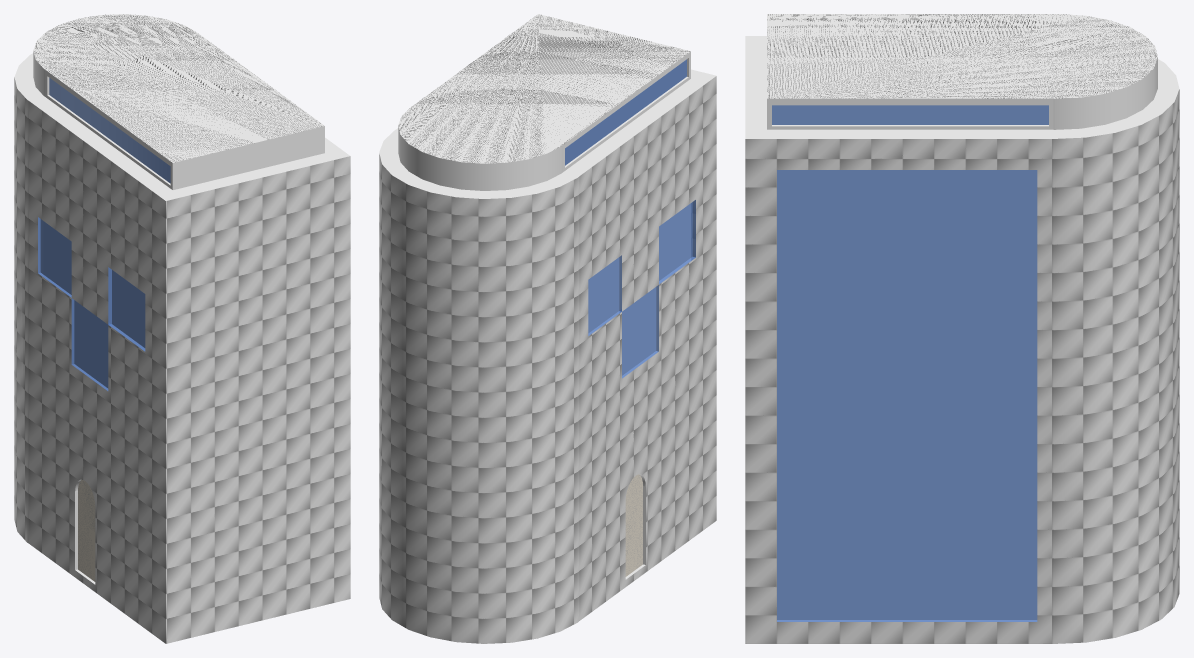
The model's file is building4.dae.
The picture shows the model from 3 angles, left to right: view 1: azimuth 30°, elevation 25°; view 2: azimuth 150°, elevation 25°; view 3: azimuth 270°, elevation 25°; orthographic projection. The views are drawn at different scales.
Visible parts, largest first — view 1: SketchUp (×8); view 2: SketchUp (×8); view 3: SketchUp (×7).
Part boxes in pixels (<box>): SketchUp (×8): <box>14,14,350,643</box>; SketchUp (×8): <box>379,14,716,643</box>; SketchUp (×7): <box>745,14,1179,643</box>.
Bounding box in the file's own units: 92.96 × 165 × 225.
